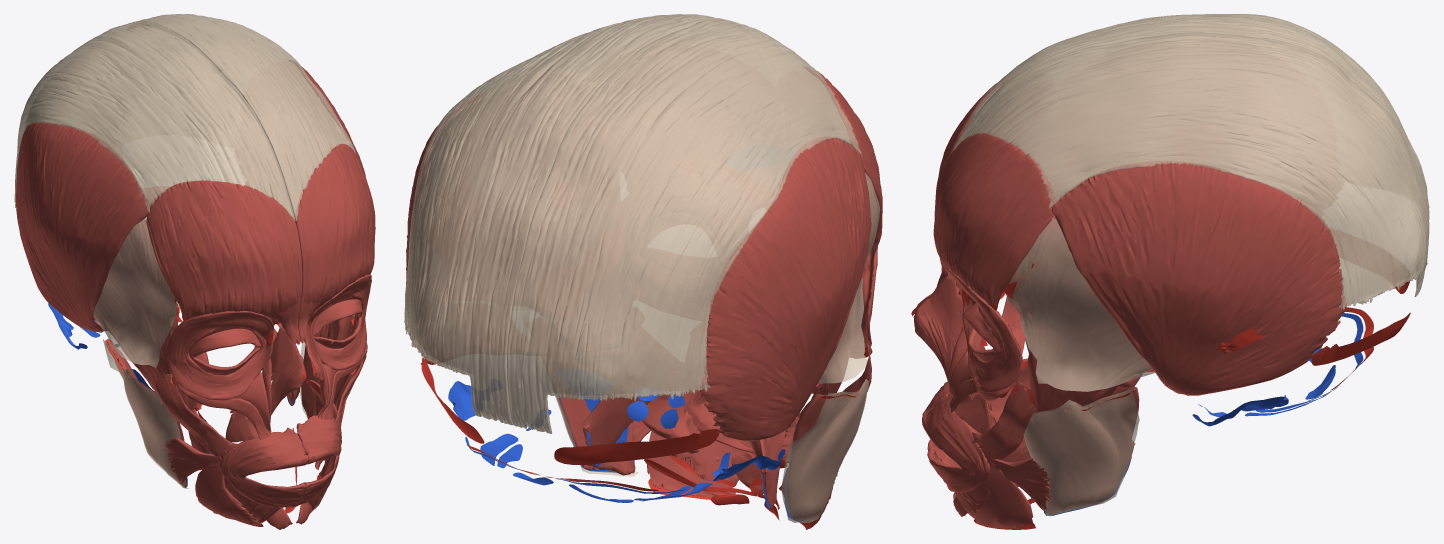
Rendered from muscular.head.glb.
The picture shows the model from 3 angles, left to right: view 1: azimuth 30°, elevation 25°; view 2: azimuth 150°, elevation 25°; view 3: azimuth 270°, elevation 25°; orthographic projection. The views are drawn at different scales.
Parts seen in each view (by area): view 1: right_epicranial_aponeurosis, right_temporoparietalis_muscle, right_frontalis_muscle, left_epicranial_aponeurosis, left_frontalis_muscle, right_temporalis_muscle, right_superficial_layer_of_temporal_fascia, right_orbital_part_of_orbicularis_oculi, right_orbicularis_oris_muscle, right_masseteric_fascia, right_superficial_part_of_masseter, left_orbicularis_oris_muscle (+19 smaller); view 2: right_epicranial_aponeurosis, left_epicranial_aponeurosis, right_temporoparietalis_muscle, right_masseteric_fascia, right_superficial_part_of_masseter, right_occipitalis_muscle_origin_occipital_bone, right_superficial_layer_of_temporal_fascia, right_deep_part_of_masseter, right_frontalis_muscle, right_temporalis_muscle, left_medial_pterygoid_muscle, left_depressor_labii_inferioris (+13 smaller); view 3: left_epicranial_aponeurosis, left_temporoparietalis_muscle, left_frontalis_muscle, left_temporalis_muscle, left_superficial_layer_of_temporal_fascia, left_masseteric_fascia, right_epicranial_aponeurosis, left_superficial_part_of_masseter, left_orbicularis_oris_muscle, left_orbital_part_of_orbicularis_oculi, left_nasalis_muscle, left_zygomaticus_major_muscle (+12 smaller).
Part boxes in pixels (x1=…): right_epicranial_aponeurosis: x1=14, y1=21, x2=295, y2=221; right_temporoparietalis_muscle: x1=16, y1=122, x2=149, y2=331; right_frontalis_muscle: x1=146, y1=180, x2=302, y2=321; left_epicranial_aponeurosis: x1=137, y1=14, x2=355, y2=221; left_frontalis_muscle: x1=295, y1=144, x2=375, y2=310; right_temporalis_muscle: x1=94, y1=221, x2=188, y2=406; right_superficial_layer_of_temporal_fascia: x1=93, y1=217, x2=177, y2=367; right_orbital_part_of_orbicularis_oculi: x1=166, y1=311, x2=273, y2=400; right_orbicularis_oris_muscle: x1=219, y1=431, x2=308, y2=507; right_masseteric_fascia: x1=103, y1=339, x2=189, y2=488; right_superficial_part_of_masseter: x1=124, y1=370, x2=186, y2=487; left_orbicularis_oris_muscle: x1=295, y1=415, x2=341, y2=506; right_epicranial_aponeurosis: x1=507, y1=19, x2=861, y2=433; left_epicranial_aponeurosis: x1=404, y1=14, x2=724, y2=425; right_temporoparietalis_muscle: x1=699, y1=136, x2=871, y2=440; right_masseteric_fascia: x1=782, y1=379, x2=868, y2=523; right_superficial_part_of_masseter: x1=790, y1=382, x2=867, y2=520; right_occipitalis_muscle_origin_occipital_bone: x1=554, y1=428, x2=719, y2=464; right_superficial_layer_of_temporal_fascia: x1=817, y1=172, x2=880, y2=383; right_deep_part_of_masseter: x1=786, y1=392, x2=853, y2=511; right_frontalis_muscle: x1=804, y1=67, x2=882, y2=254; right_temporalis_muscle: x1=799, y1=178, x2=877, y2=417; left_medial_pterygoid_muscle: x1=581, y1=397, x2=649, y2=464; left_depressor_labii_inferioris: x1=672, y1=411, x2=755, y2=483; left_epicranial_aponeurosis: x1=953, y1=32, x2=1429, y2=309; left_temporoparietalis_muscle: x1=1051, y1=161, x2=1346, y2=395; left_frontalis_muscle: x1=933, y1=133, x2=1054, y2=306; left_temporalis_muscle: x1=1014, y1=226, x2=1151, y2=413; left_superficial_layer_of_temporal_fascia: x1=1006, y1=217, x2=1155, y2=391; left_masseteric_fascia: x1=1023, y1=387, x2=1139, y2=516; right_epicranial_aponeurosis: x1=953, y1=14, x2=1429, y2=279; left_superficial_part_of_masseter: x1=1024, y1=402, x2=1118, y2=514; left_orbicularis_oris_muscle: x1=922, y1=395, x2=989, y2=492; left_orbital_part_of_orbicularis_oculi: x1=944, y1=267, x2=1022, y2=392; left_nasalis_muscle: x1=913, y1=274, x2=963, y2=384; left_zygomaticus_major_muscle: x1=971, y1=380, x2=1035, y2=466.
Bounding box in the file's own units: 0.1599 × 0.2154 × 0.2107.
